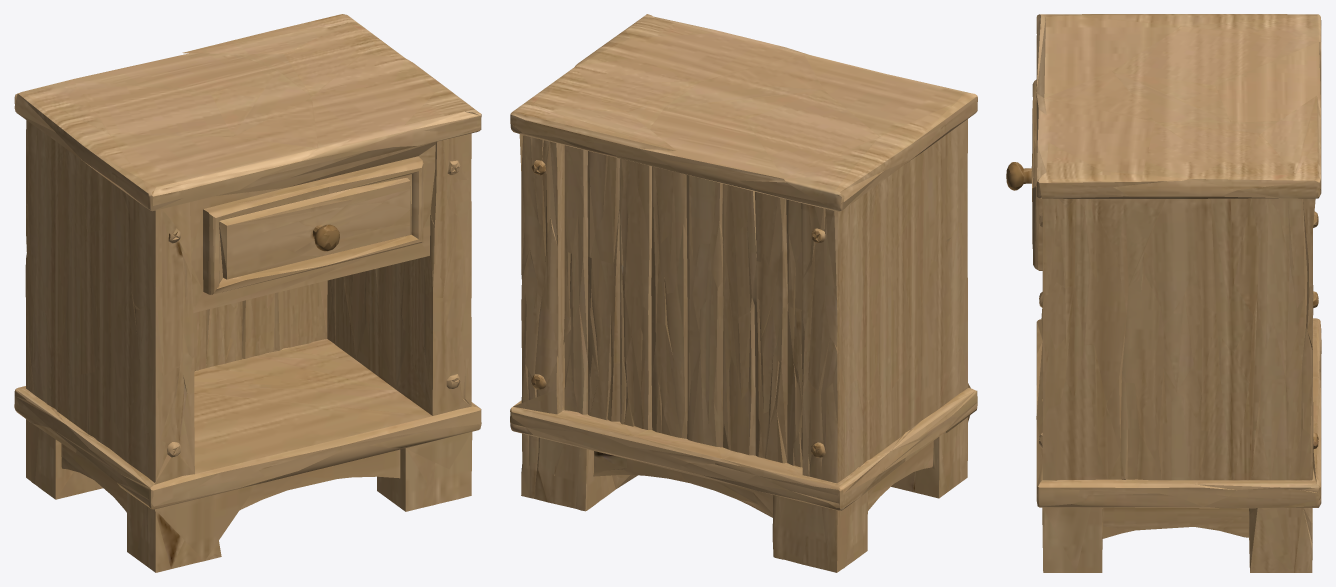
The model's file is nightstand.glb.
3 views of the same model, side by side, from view 1: azimuth 30°, elevation 25°; view 2: azimuth 150°, elevation 25°; view 3: azimuth 270°, elevation 25° (orthographic). The views are drawn at different scales.
Size of the model in its own units: 1.72 by 1.9 by 1.36.
Materials: 1 (1 with a texture image).
